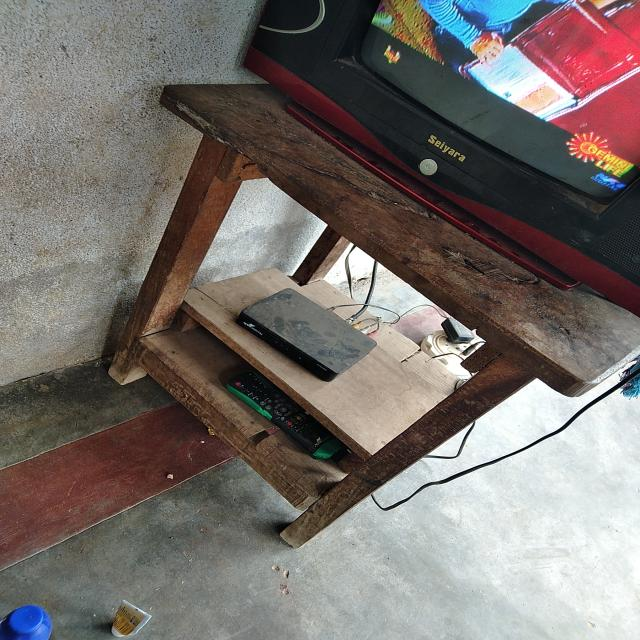table: (89, 83, 624, 553)
